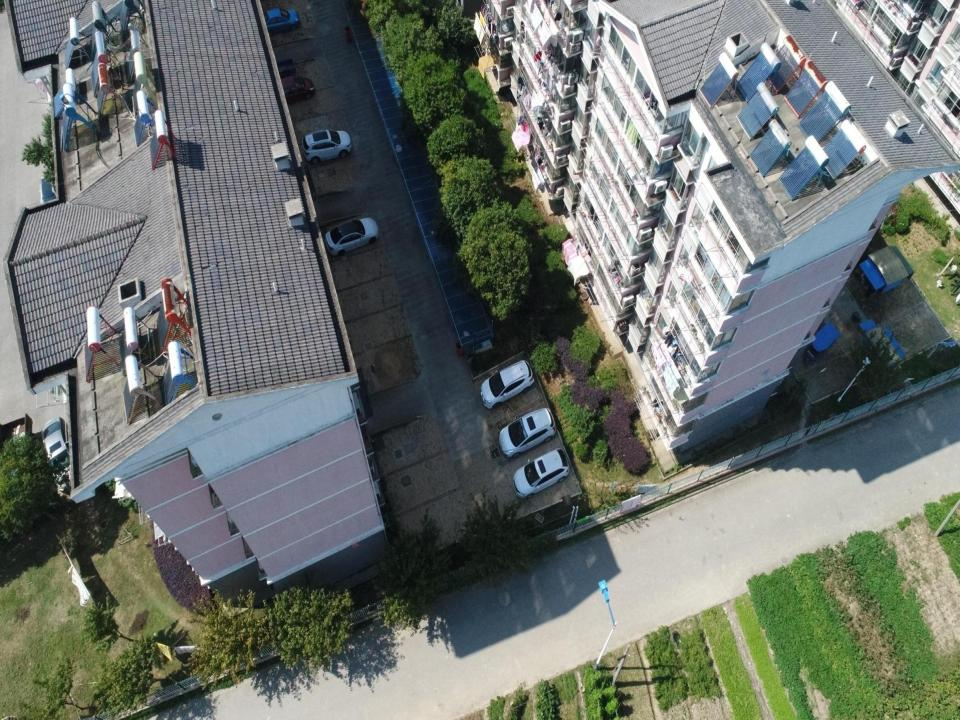car: (512, 446, 570, 500), (498, 405, 556, 459), (480, 358, 534, 410), (324, 215, 380, 257), (302, 127, 353, 166), (40, 415, 69, 478), (263, 6, 301, 36), (280, 75, 315, 102), (39, 172, 57, 208)
truck: (0, 412, 32, 496)
